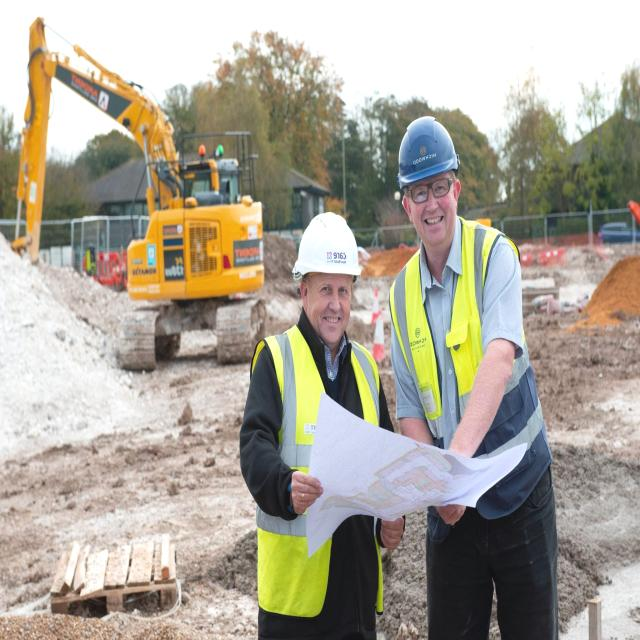face_nomask: (410, 174, 452, 245), (309, 277, 350, 345)
glasses: (408, 172, 454, 206)
hand_noglove: (288, 463, 324, 520)
head_helmet: (293, 211, 361, 282), (398, 115, 458, 187)
person: (396, 116, 553, 640), (245, 210, 380, 639)
vest: (394, 218, 544, 484), (250, 324, 380, 618)
